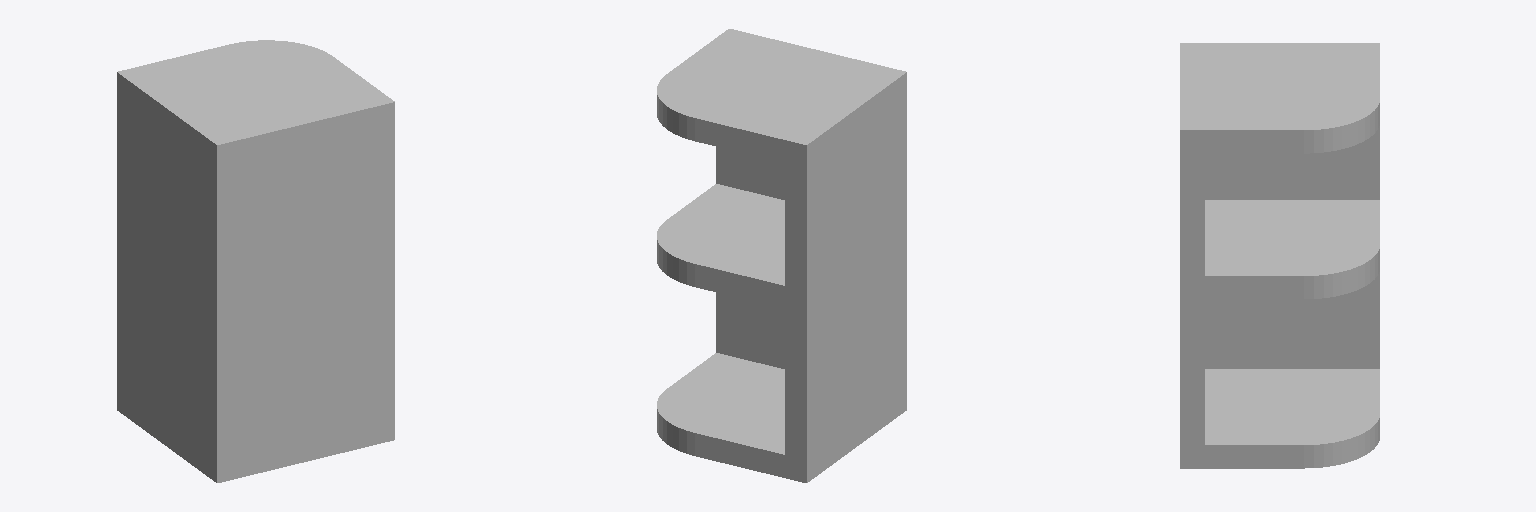
The model's file is kitchenCabinetUpperCorner.obj.
The picture shows the model from 3 angles: view 1: azimuth 30°, elevation 25°; view 2: azimuth 150°, elevation 25°; view 3: azimuth 270°, elevation 25°; orthographic projection.
Visible parts, largest first — view 1: kitchenCabinetUpperCorner; view 2: kitchenCabinetUpperCorner; view 3: kitchenCabinetUpperCorner.
Part boxes in pixels (left/top/right/bottom): kitchenCabinetUpperCorner: left=117, top=40, right=394, bottom=482; kitchenCabinetUpperCorner: left=657, top=29, right=906, bottom=482; kitchenCabinetUpperCorner: left=1180, top=43, right=1379, bottom=468.
Bounding box in the file's own units: 0.215 × 0.39 × 0.21.